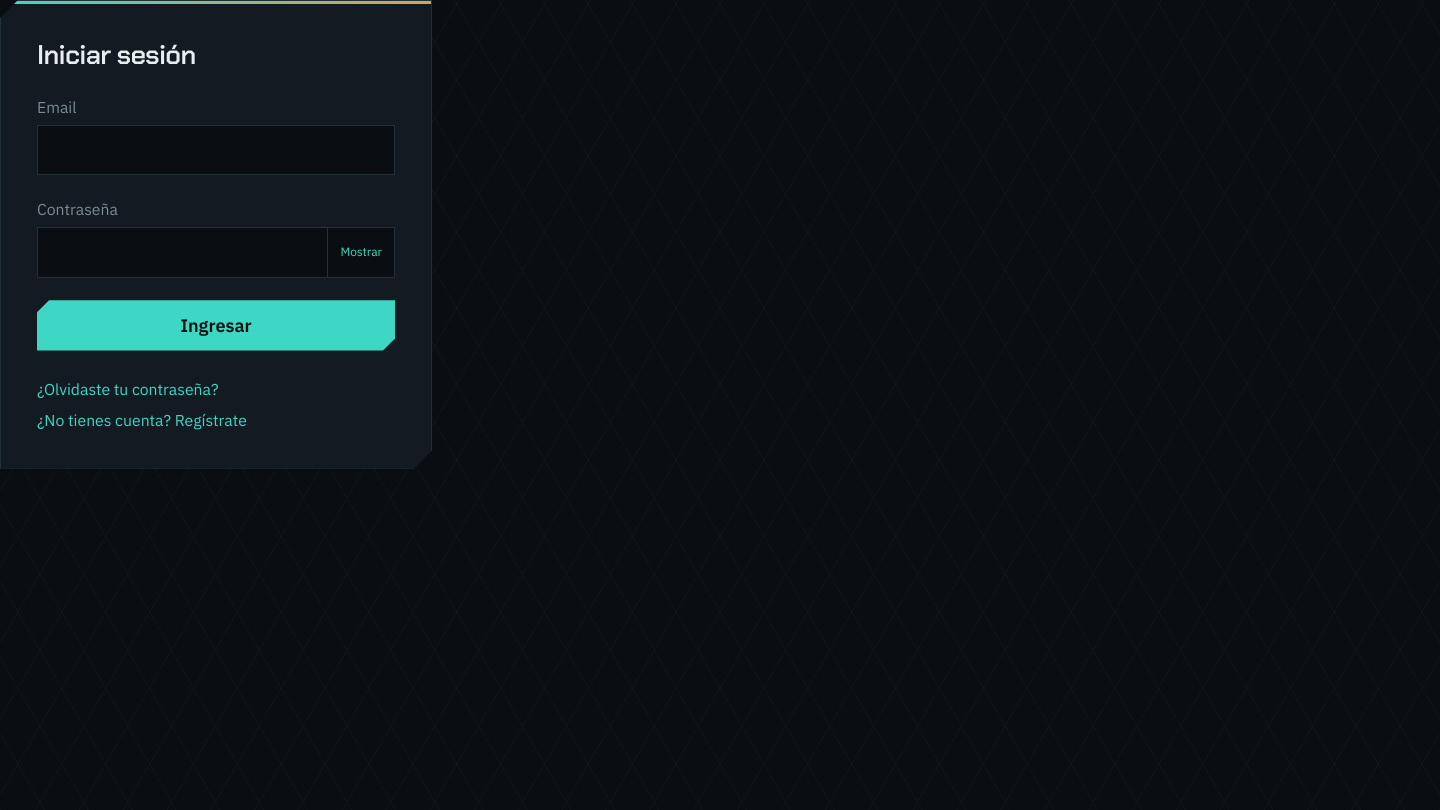
it: LoginForm › muestra un error si las credenciales son inválidas
The image size is (1440, 810).
Step 1. Type "a@b.com" into the field labelled "Email" → (216, 150), box left=37, top=125, right=395, bottom=175
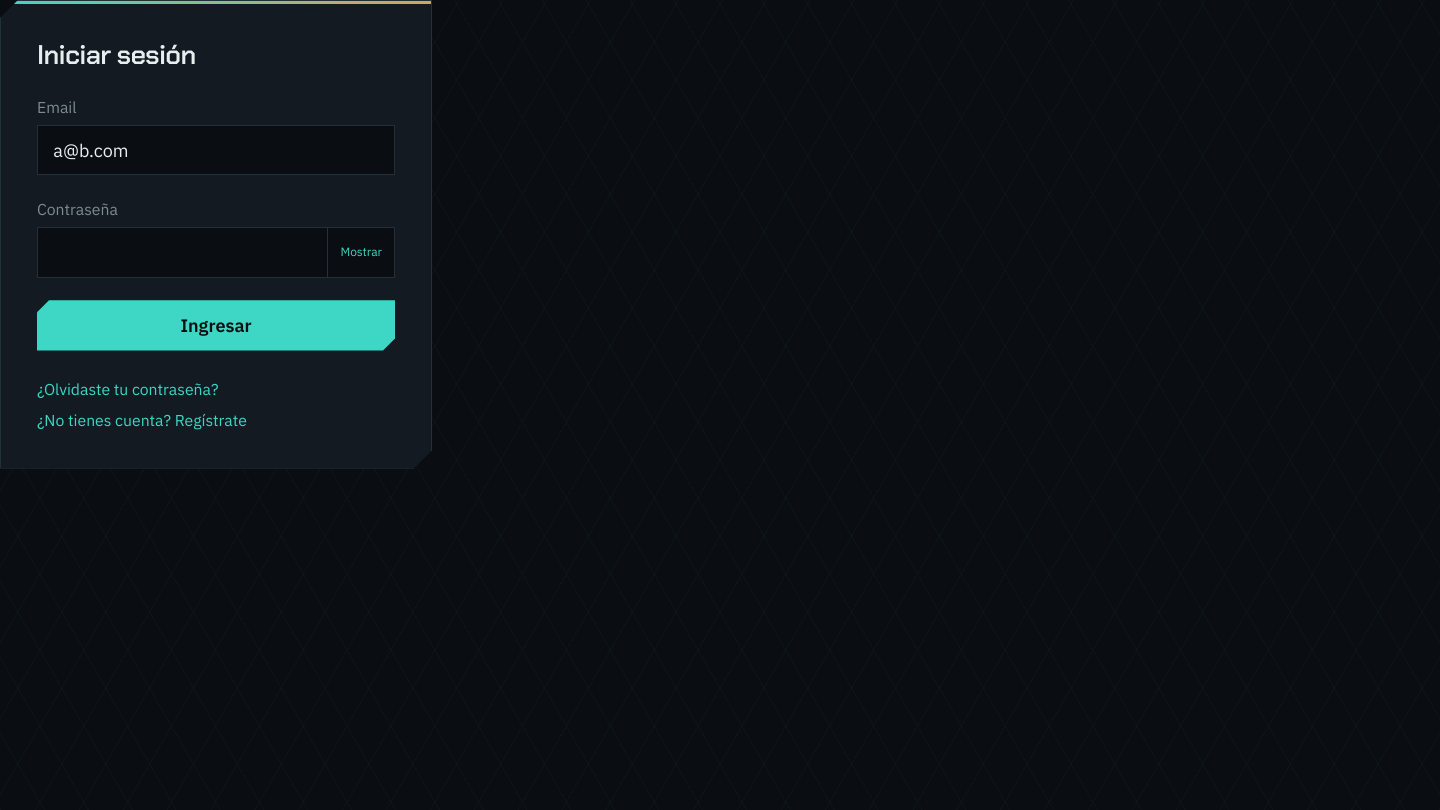
Step 2. Type "wrong" into the password field labelled "Contraseña Mostrar" → (182, 252), box left=37, top=227, right=327, bottom=278
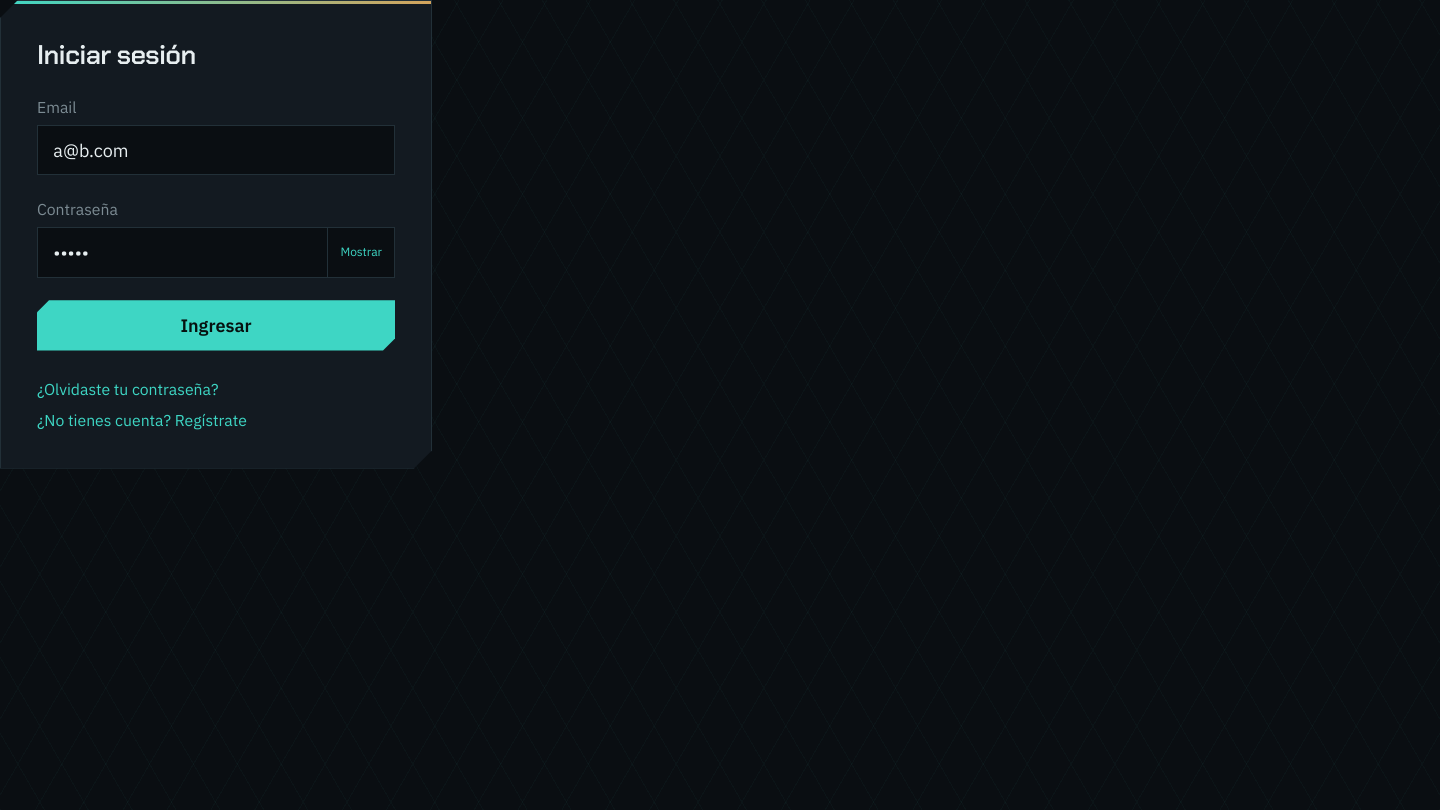
Step 3. Click the button "Ingresar" → (216, 325), box left=37, top=300, right=395, bottom=351
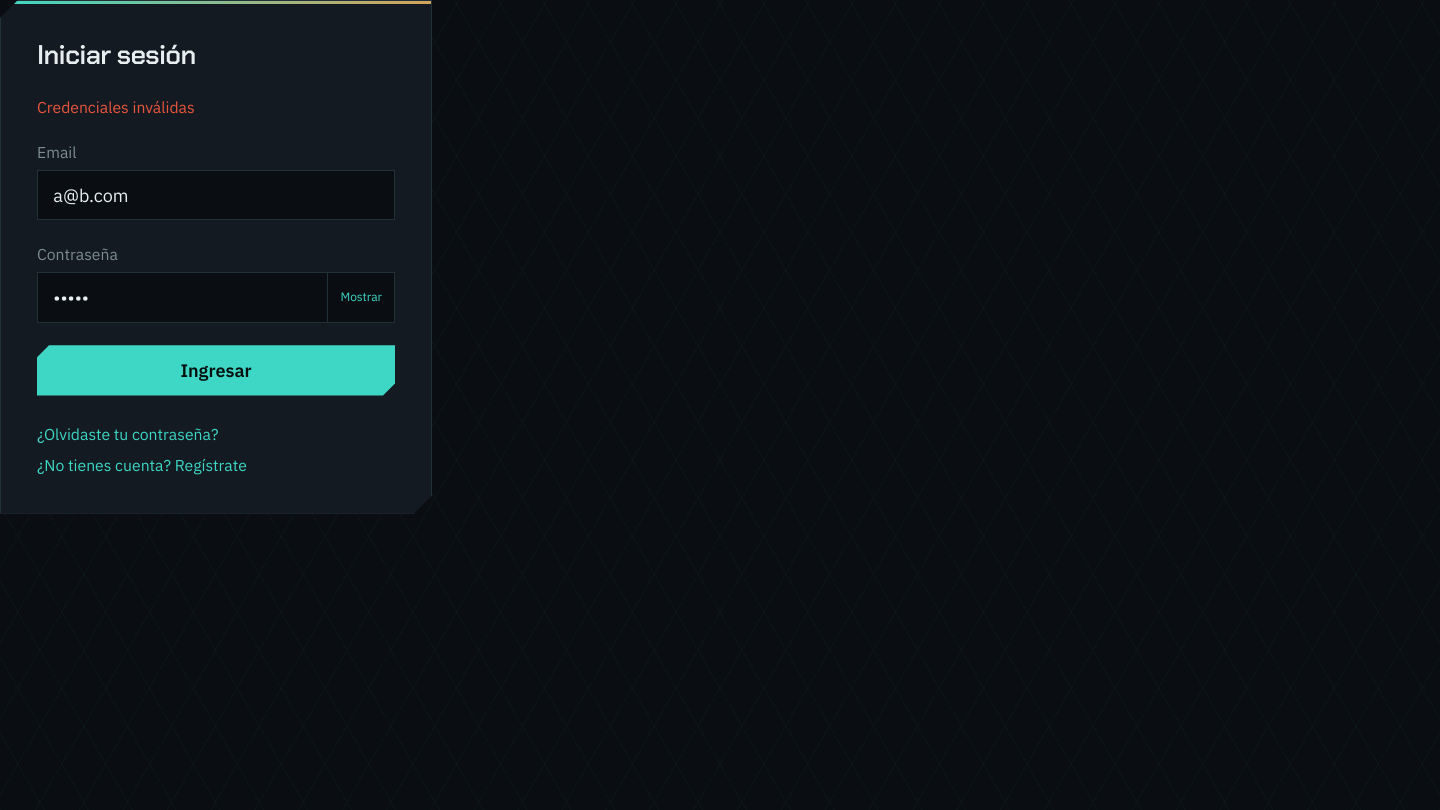
Expected: the message reads "Credenciales inválidas", left=37, top=96, right=195, bottom=116
